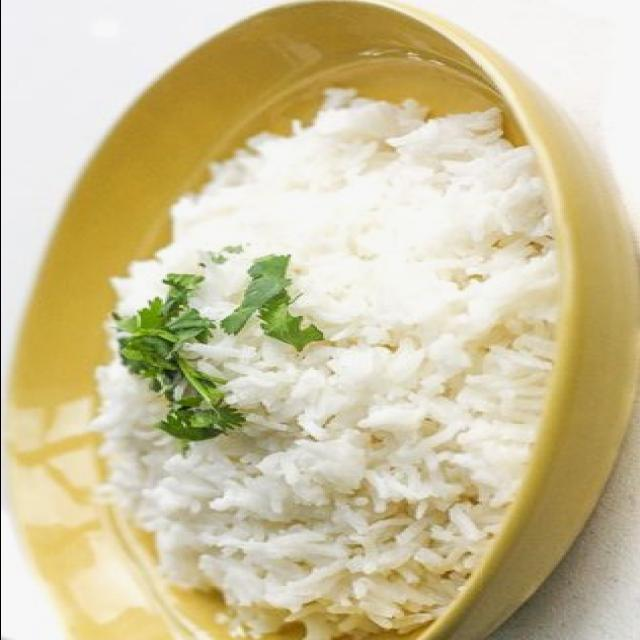nasi: (93, 72, 583, 640)
